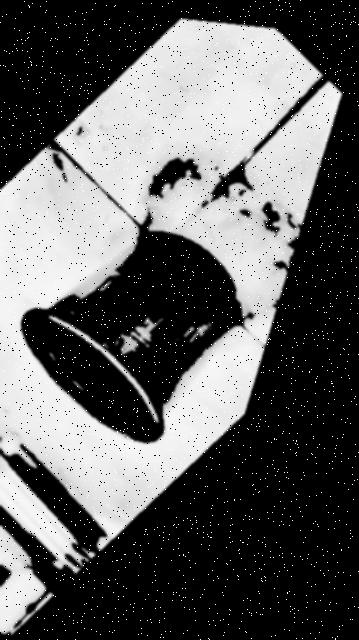pot: (21, 231, 239, 442)
